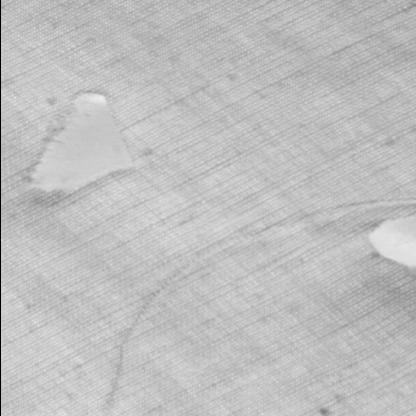objects: (96, 190, 415, 415), (22, 89, 139, 195), (363, 211, 415, 279)
